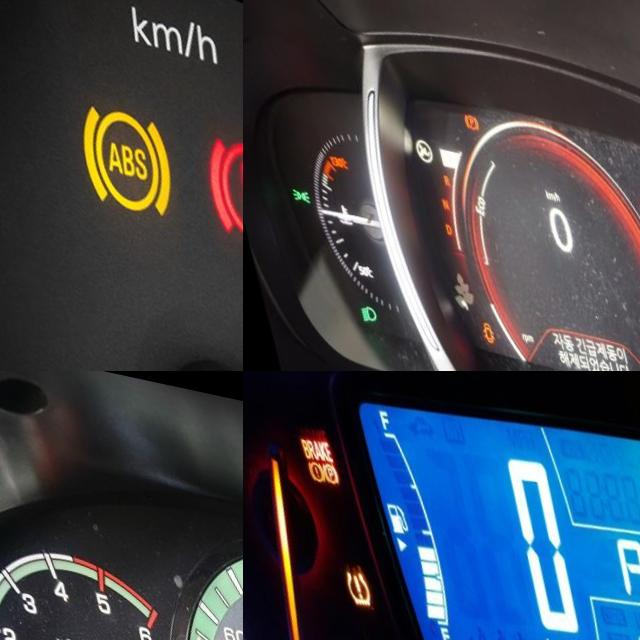Doors: (460, 309, 475, 333)
Low beam: (338, 298, 357, 319)
SideLamp: (275, 182, 295, 200)
